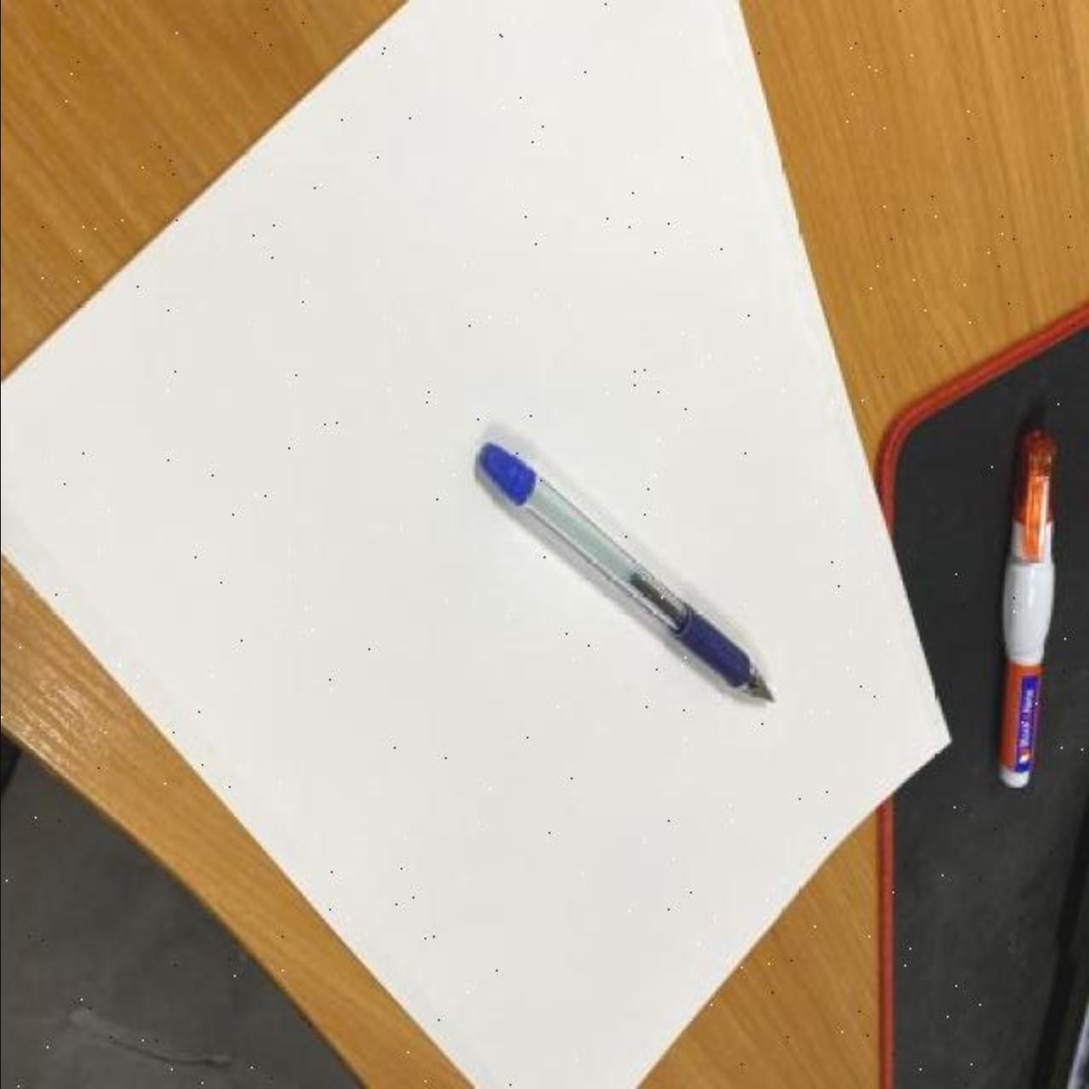pen: (478, 444, 779, 706)
